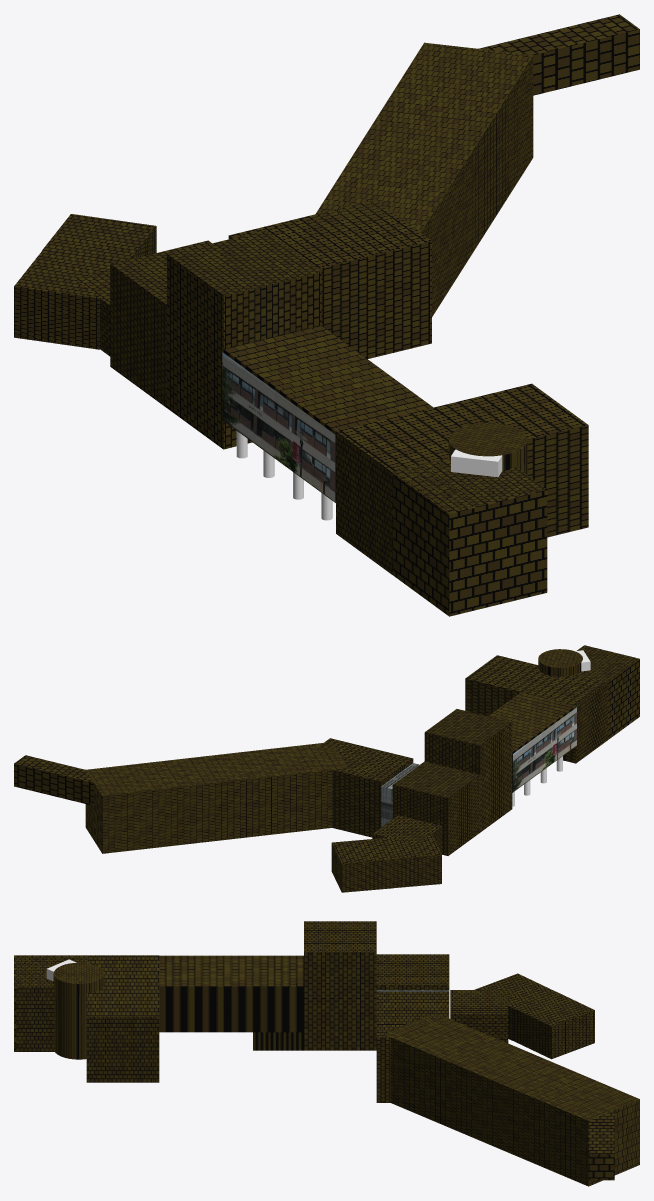
Rendered from lucy_stone.glb.
The picture shows the model from 3 angles, top to bottom: view 1: azimuth 30°, elevation 25°; view 2: azimuth 150°, elevation 25°; view 3: azimuth 270°, elevation 25°; orthographic projection. The views are drawn at different scales.
Parts seen in each view (by area): view 1: Cube.008, Cube.015, Cube.005, Cube.004, Cube.013, Cube.006, Plane, Cube.014, Cube.010, Cube.011, Cube.002, Cube.012 (+3 smaller); view 2: Cube.008, Cube.015, Cube.005, Cube.014, Cube.013, Cube.012, Cube.011, Cube.006, Plane, Cube.010, Cube.004, Cube.009 (+3 smaller); view 3: Cube.008, Cube.006, Cube.005, Cube.015, Cube.012, Cube.002, Cube.013, Cylinder, Cube.014, Cube.009, Cube.011, Cube.010 (+2 smaller).
Boxes of the visible parts, left/top/right/bottom form: Cube.008: left=308, top=42, right=533, bottom=316; Cube.015: left=336, top=383, right=588, bottom=574; Cube.005: left=167, top=230, right=321, bottom=449; Cube.004: left=392, top=459, right=547, bottom=616; Cube.013: left=228, top=199, right=431, bottom=358; Cube.006: left=223, top=325, right=433, bottom=502; Plane: left=222, top=352, right=335, bottom=501; Cube.014: left=110, top=240, right=211, bottom=407; Cube.010: left=14, top=250, right=121, bottom=349; Cube.011: left=478, top=14, right=639, bottom=95; Cube.002: left=392, top=457, right=545, bottom=512; Cube.012: left=42, top=214, right=156, bottom=261; Cube.008: left=85, top=742, right=349, bottom=853; Cube.015: left=465, top=655, right=607, bottom=763; Cube.005: left=424, top=709, right=512, bottom=832; Cube.014: left=392, top=761, right=480, bottom=855; Cube.013: left=309, top=738, right=413, bottom=837; Cube.012: left=331, top=838, right=391, bottom=892; Cube.011: left=14, top=755, right=94, bottom=805; Cube.006: left=488, top=692, right=575, bottom=792; Plane: left=513, top=707, right=576, bottom=791; Cube.010: left=382, top=834, right=441, bottom=888; Cube.004: left=576, top=645, right=639, bottom=739; Cube.009: left=372, top=815, right=442, bottom=854; Cube.008: left=384, top=1012, right=639, bottom=1186; Cube.006: left=159, top=955, right=303, bottom=1032; Cube.005: left=304, top=921, right=376, bottom=1050; Cube.015: left=86, top=955, right=159, bottom=1082; Cube.012: left=513, top=992, right=594, bottom=1059; Cube.002: left=16, top=955, right=88, bottom=1051; Cube.013: left=376, top=991, right=449, bottom=1102; Cylinder: left=53, top=962, right=104, bottom=1059; Cube.014: left=376, top=954, right=449, bottom=990; Cube.009: left=450, top=990, right=508, bottom=1042; Cube.011: left=588, top=1110, right=614, bottom=1180; Cube.010: left=474, top=973, right=555, bottom=1040.
Size of the model in its own units: 33.7 by 7.37 by 41.78.
Materials: 21 (16 with a texture image).
